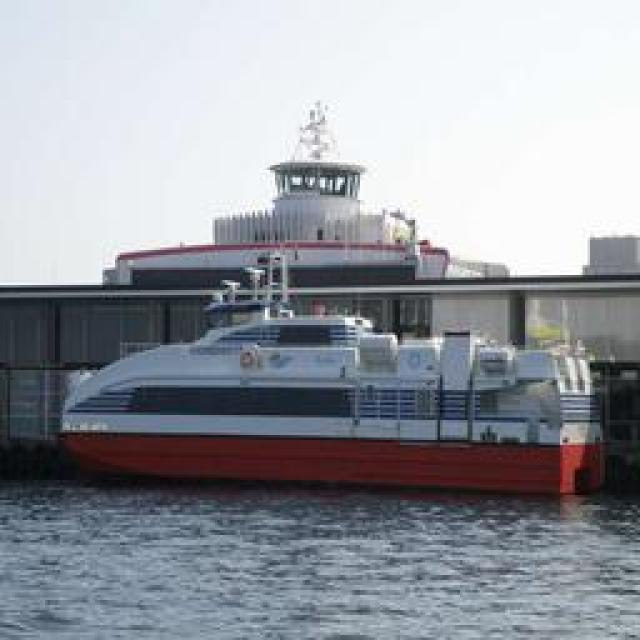CIV_Ship: (61, 258, 609, 500)
